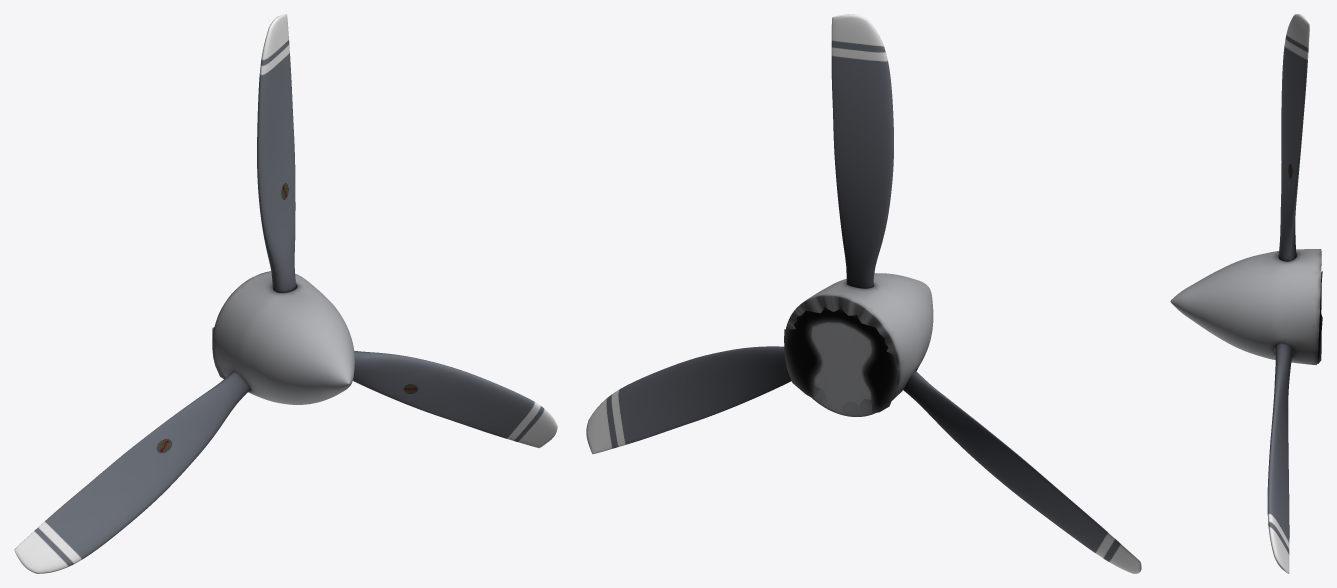
Rendered from prop.fbx.
3 renders of one model, left to right at view 1: azimuth 30°, elevation 25°; view 2: azimuth 150°, elevation 25°; view 3: azimuth 270°, elevation 25°, orthographic. The views are drawn at different scales.
Visible parts, largest first — view 1: propeller; view 2: propeller; view 3: propeller.
Part boxes in pixels (x1,y1,x2,y2): propeller: [14, 14, 557, 573]; propeller: [586, 14, 1141, 573]; propeller: [1170, 14, 1322, 573].
Bounding box in the file's own units: 1.04 × 0.9036 × 0.2807.
Materials: 1 (1 with a texture image).
